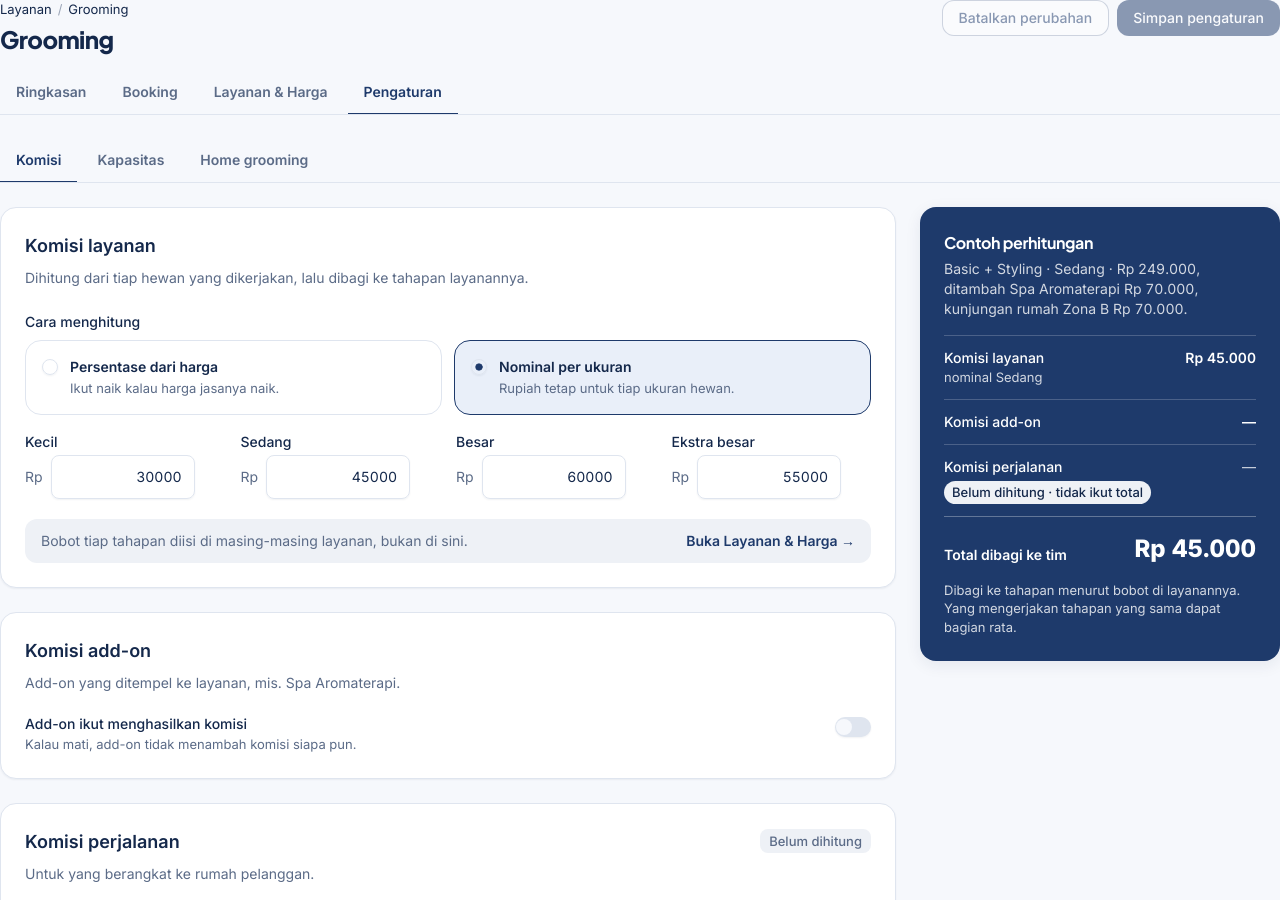
Test: GroomingSettingsScreen — Home grooming › draws a fee for a zone that is gone as such, with a way to clear it
Click the tab "Home grooming": point(254, 161) [184,139,324,183]
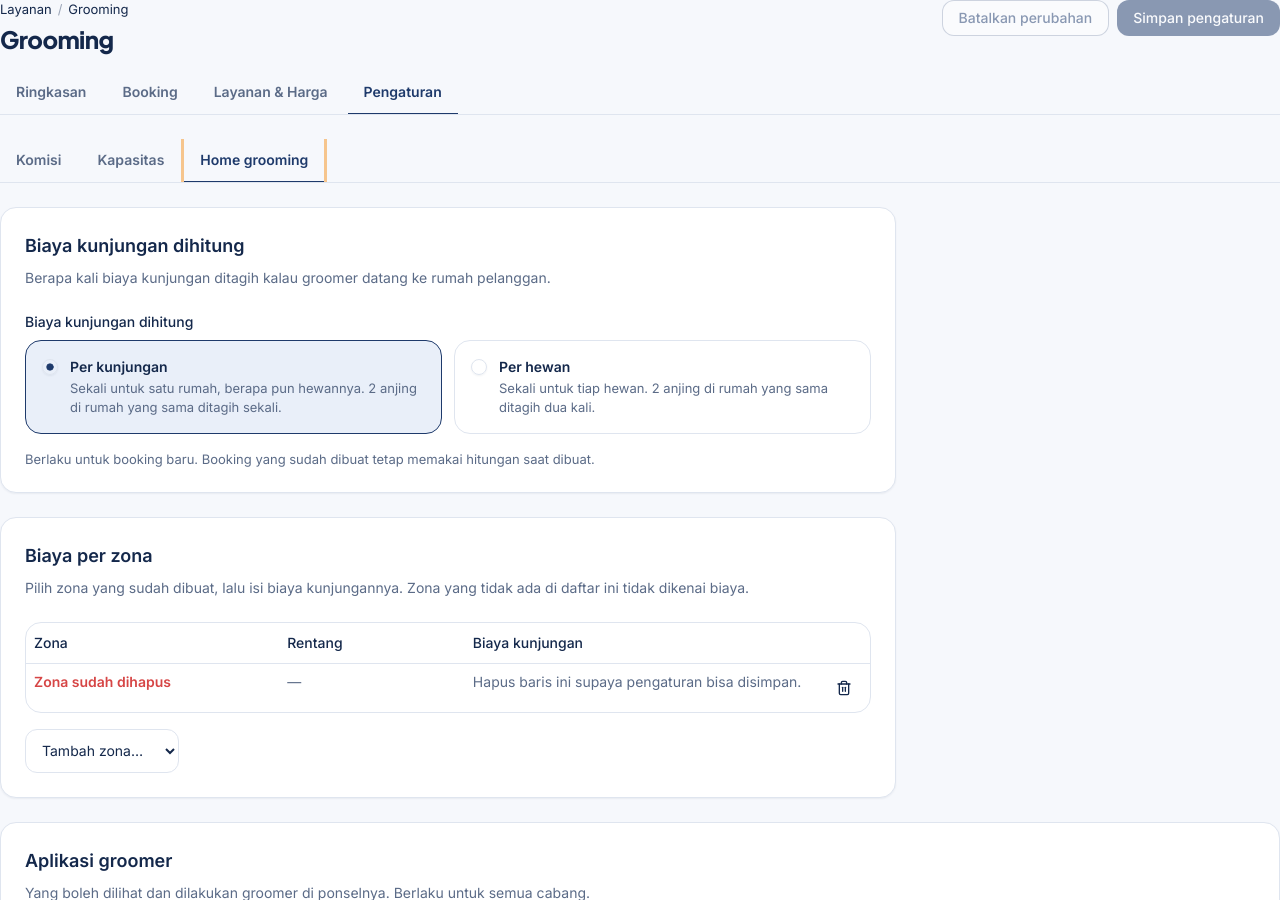
Expected: the text "Zona sudah dihapus" is shown, [34,673,171,690]
Expected: the button named "Hapus biaya zona yang sudah dihapus" is shown, [826,672,862,704]
